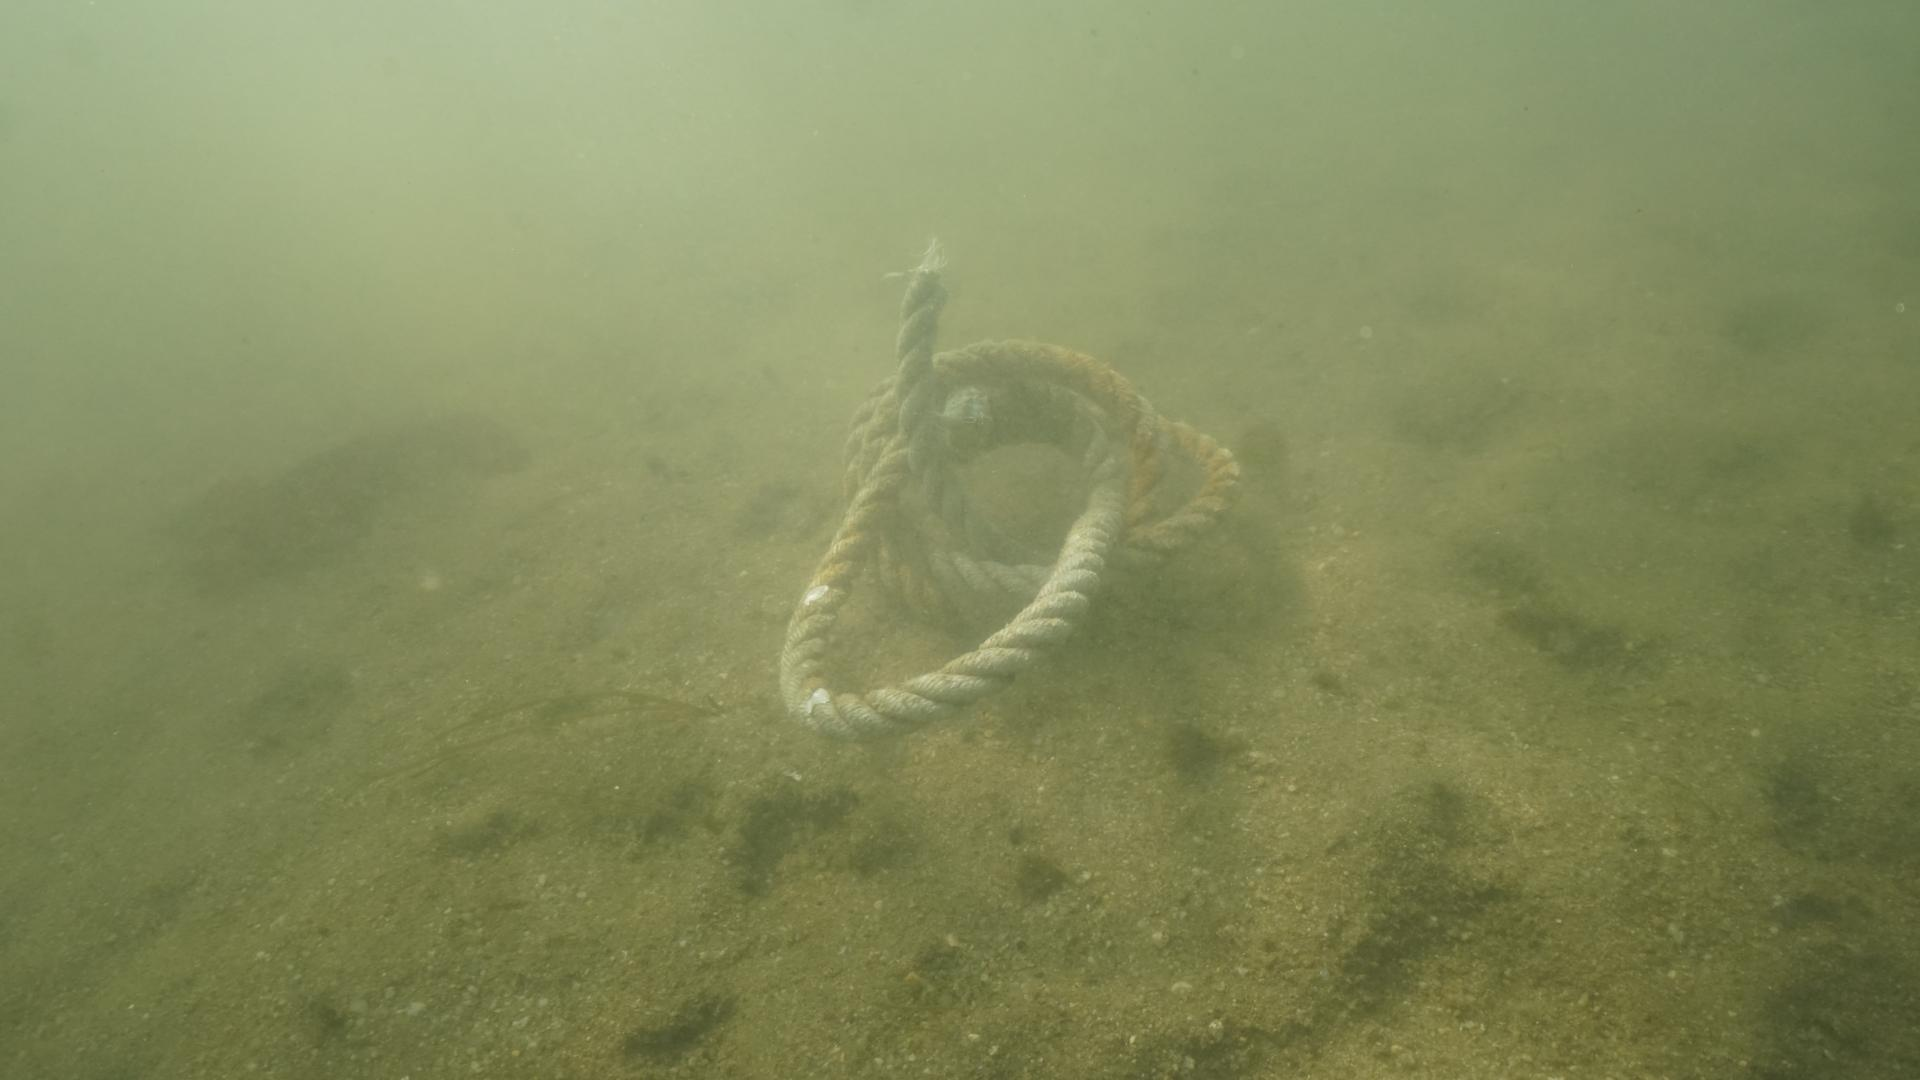bundle of ropes: (767, 265, 1242, 745)
